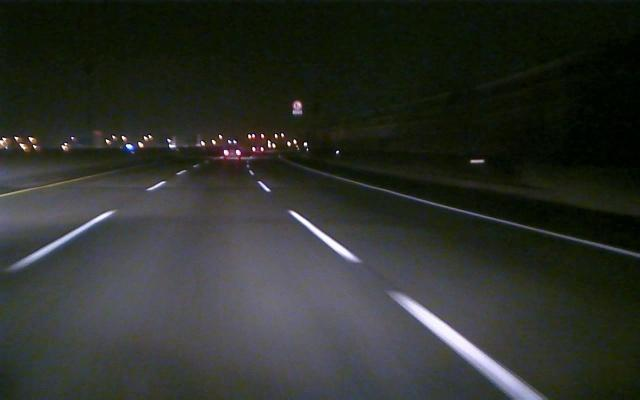lane: (256, 181, 548, 399), (340, 176, 640, 260), (3, 182, 162, 274)
